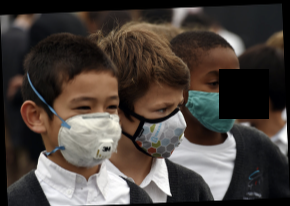with_mask: (46, 93, 122, 168), (127, 97, 186, 160), (184, 69, 242, 133)
